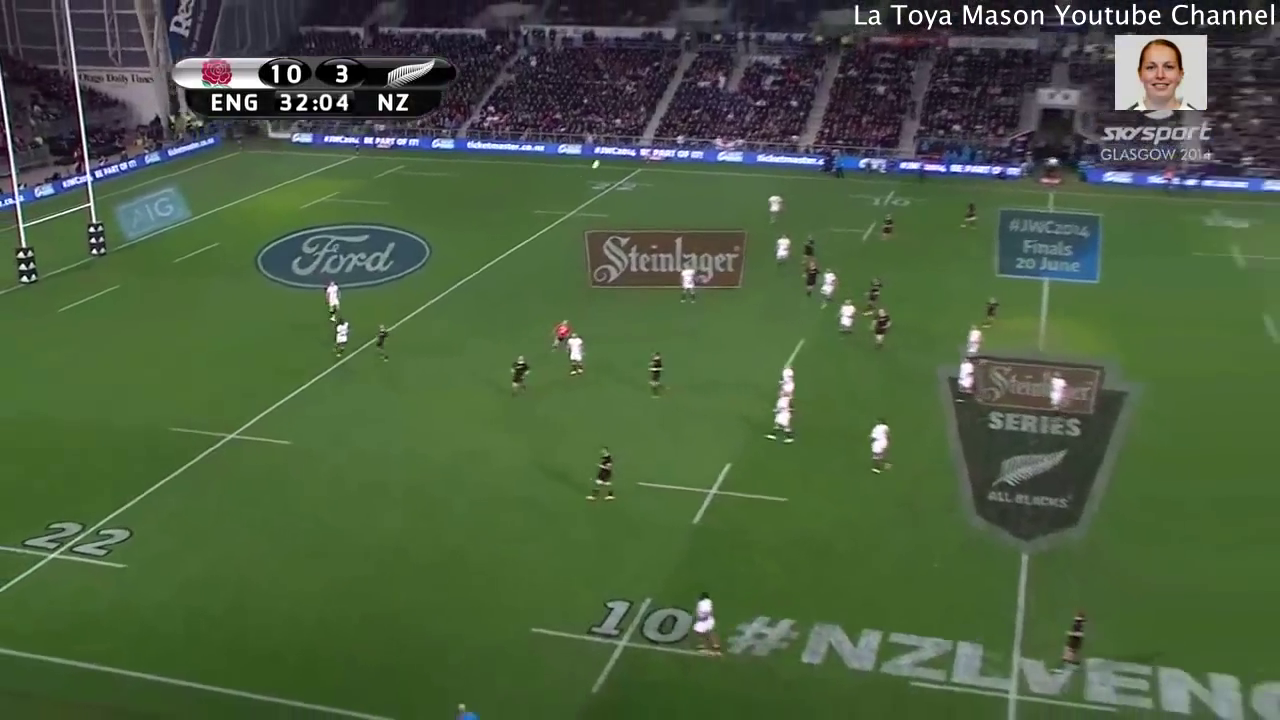10_metre: (516, 589, 721, 700), (630, 458, 794, 536), (845, 181, 927, 216), (825, 212, 910, 244)
player: (577, 438, 621, 517), (1054, 605, 1093, 683), (686, 585, 723, 664), (762, 387, 804, 450), (863, 416, 901, 477), (501, 344, 539, 404), (639, 342, 674, 400), (771, 356, 803, 412), (317, 272, 348, 329), (958, 319, 990, 371), (672, 256, 702, 311), (950, 352, 977, 410), (832, 292, 862, 343), (562, 331, 591, 382), (857, 271, 887, 319), (815, 265, 844, 312), (370, 317, 394, 373), (543, 306, 569, 355), (868, 302, 894, 351), (771, 227, 796, 274), (329, 316, 353, 362), (1045, 368, 1067, 416), (799, 256, 822, 301), (955, 200, 981, 236), (762, 189, 787, 225), (877, 212, 900, 245), (796, 233, 820, 264), (983, 295, 1001, 333)
post: (1, 1, 119, 288)
